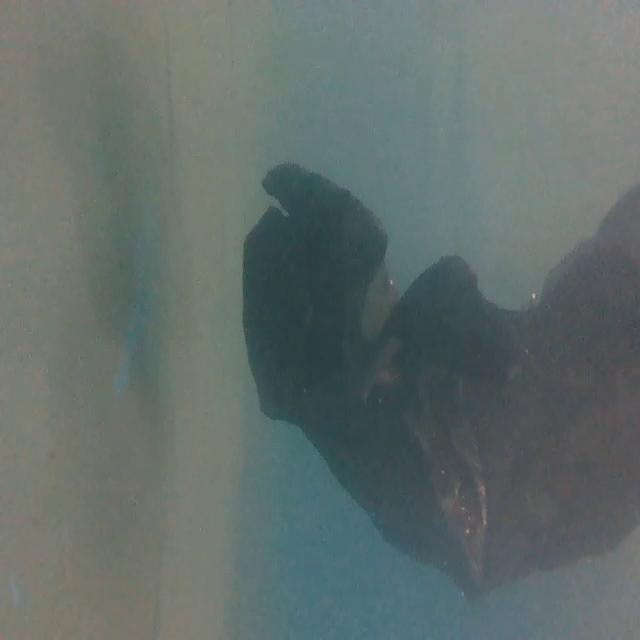plastic bags: (233, 153, 640, 575)
